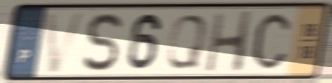6: (126, 12, 164, 73)
C: (251, 11, 292, 72)
H: (203, 8, 255, 74)
Q: (163, 12, 210, 72)
S: (80, 11, 124, 74)
V: (44, 9, 90, 76)
